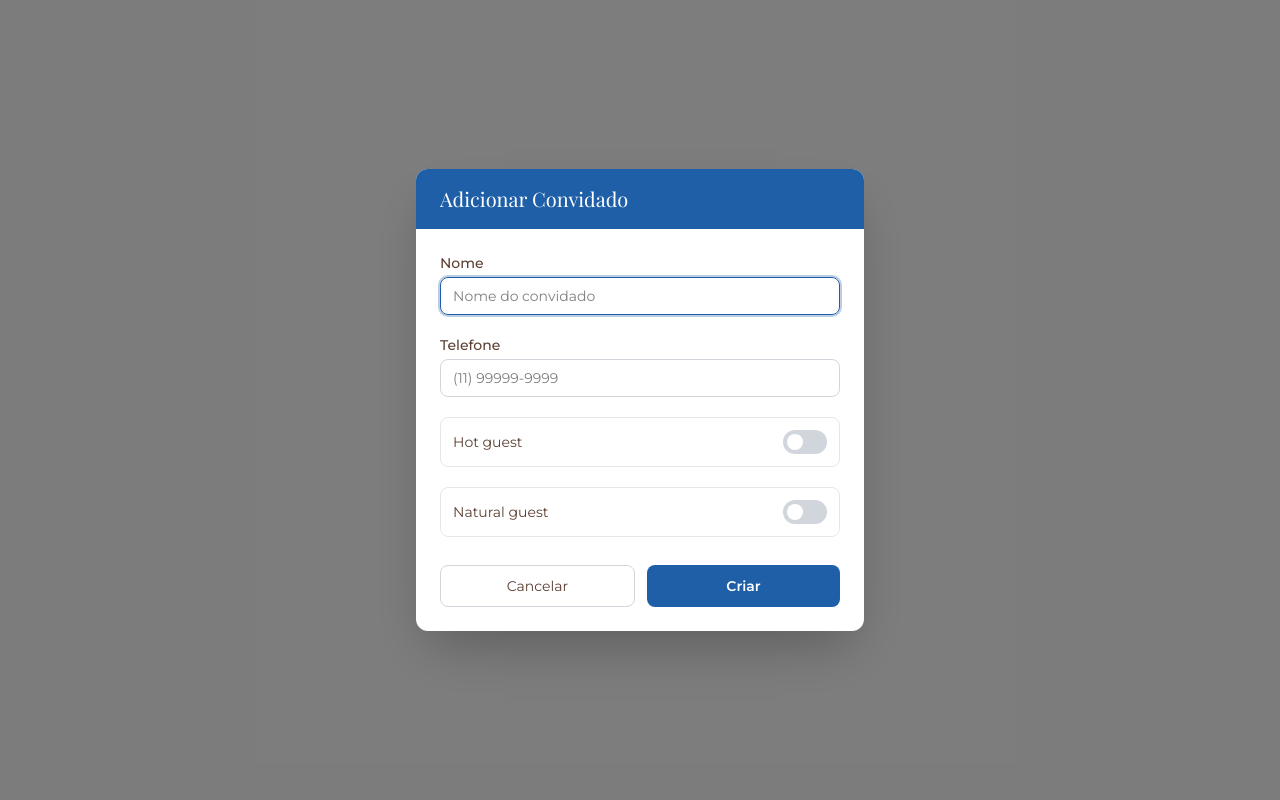
Scenario: CreateGuestDialog › should show validation error for empty phone
Fill name
Type "Maria Silva" into the field labelled "Nome". click: (640, 296)
box: [440, 277, 840, 315]
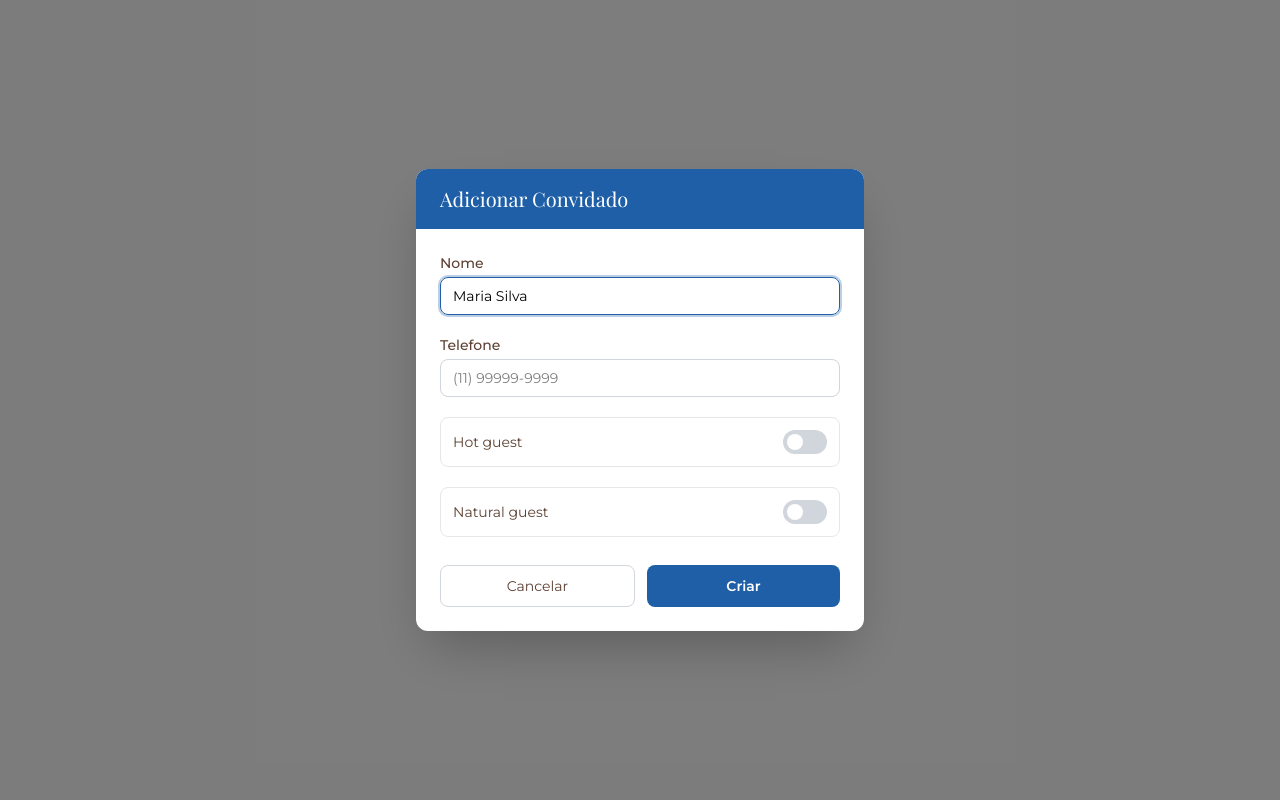
Click the button "Criar". click: (744, 586)
box: [647, 565, 840, 607]
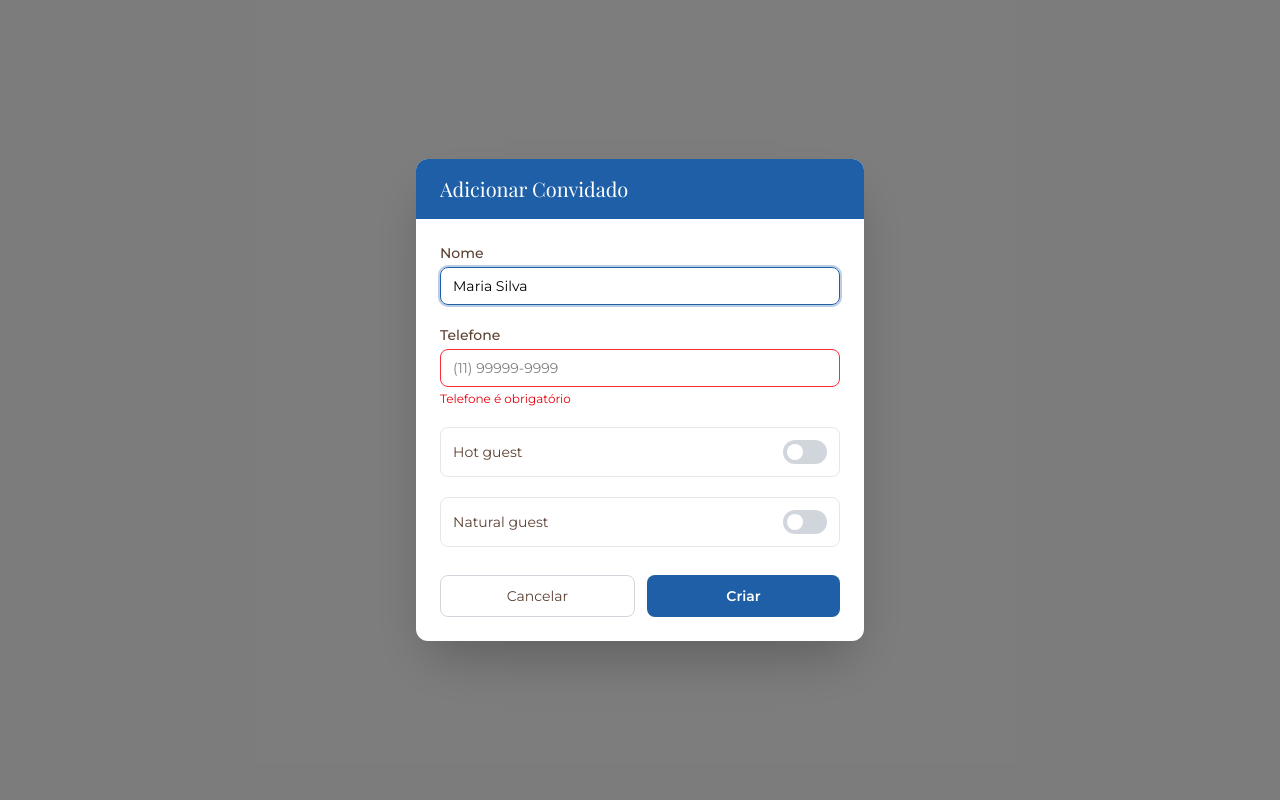
expect the text "Telefone é obrigatório" is shown: met, box [440, 391, 571, 406]
